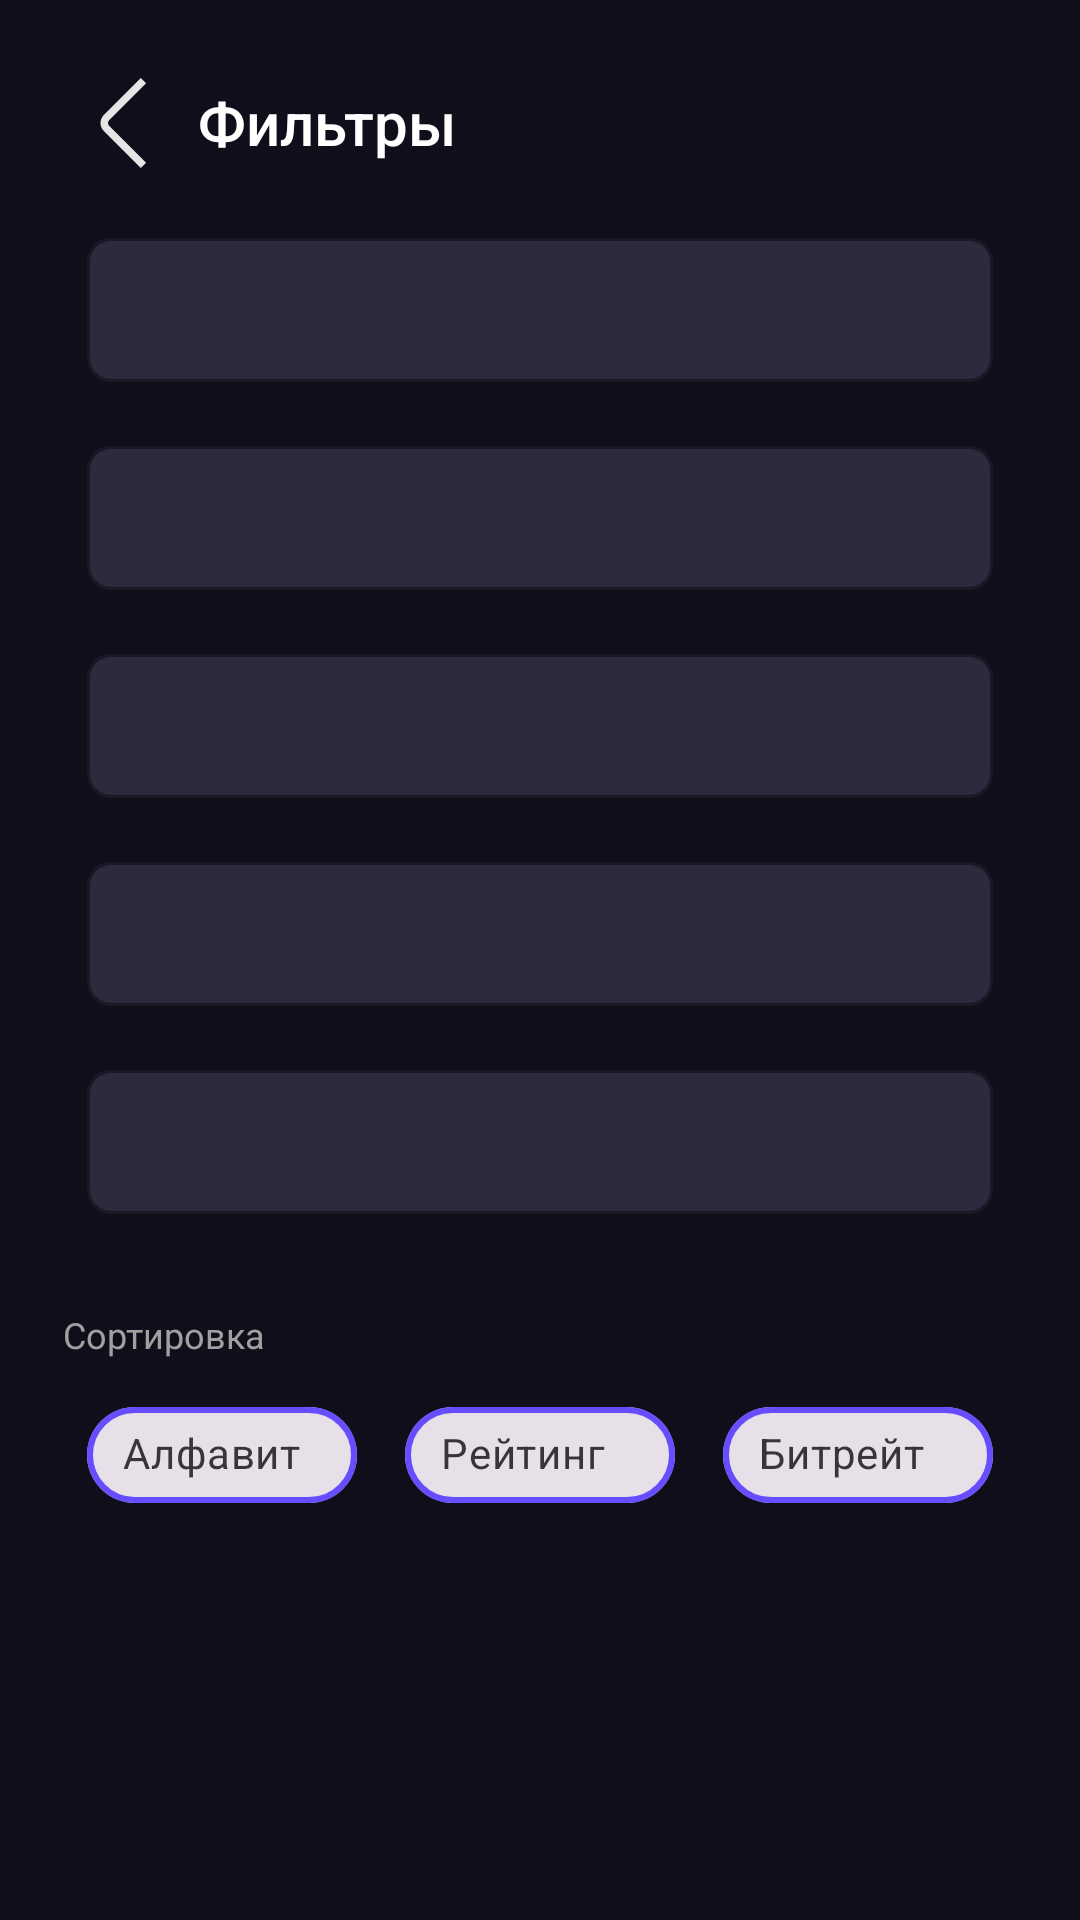

Icons on this 1080x1920 Android screen, each with its box as box(x1, y1, x2, y2):
back: box(100, 78, 146, 168)
